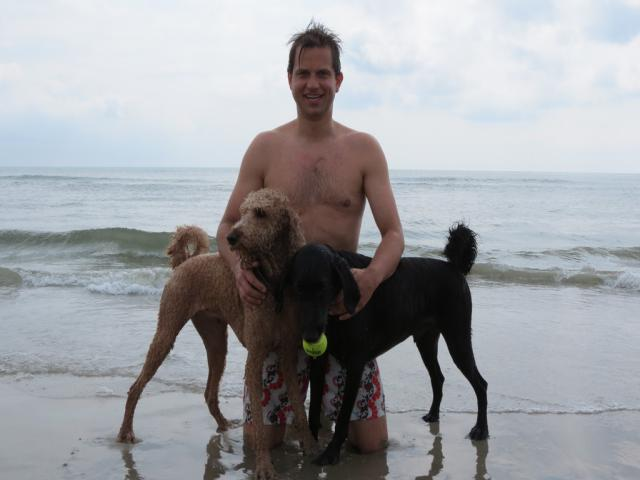Dog: (116, 188, 328, 479), (273, 219, 491, 466)
